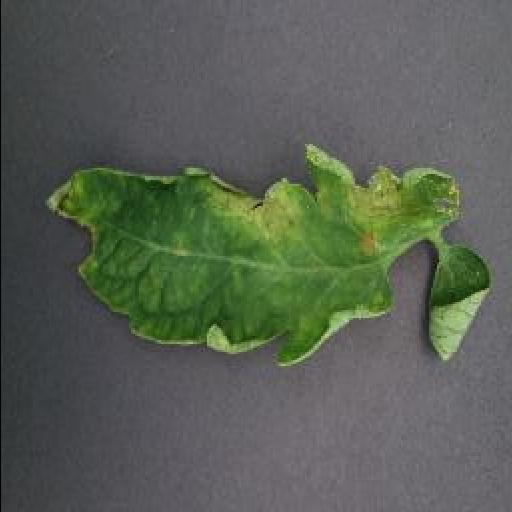disease_tomato: (46, 140, 460, 368)
